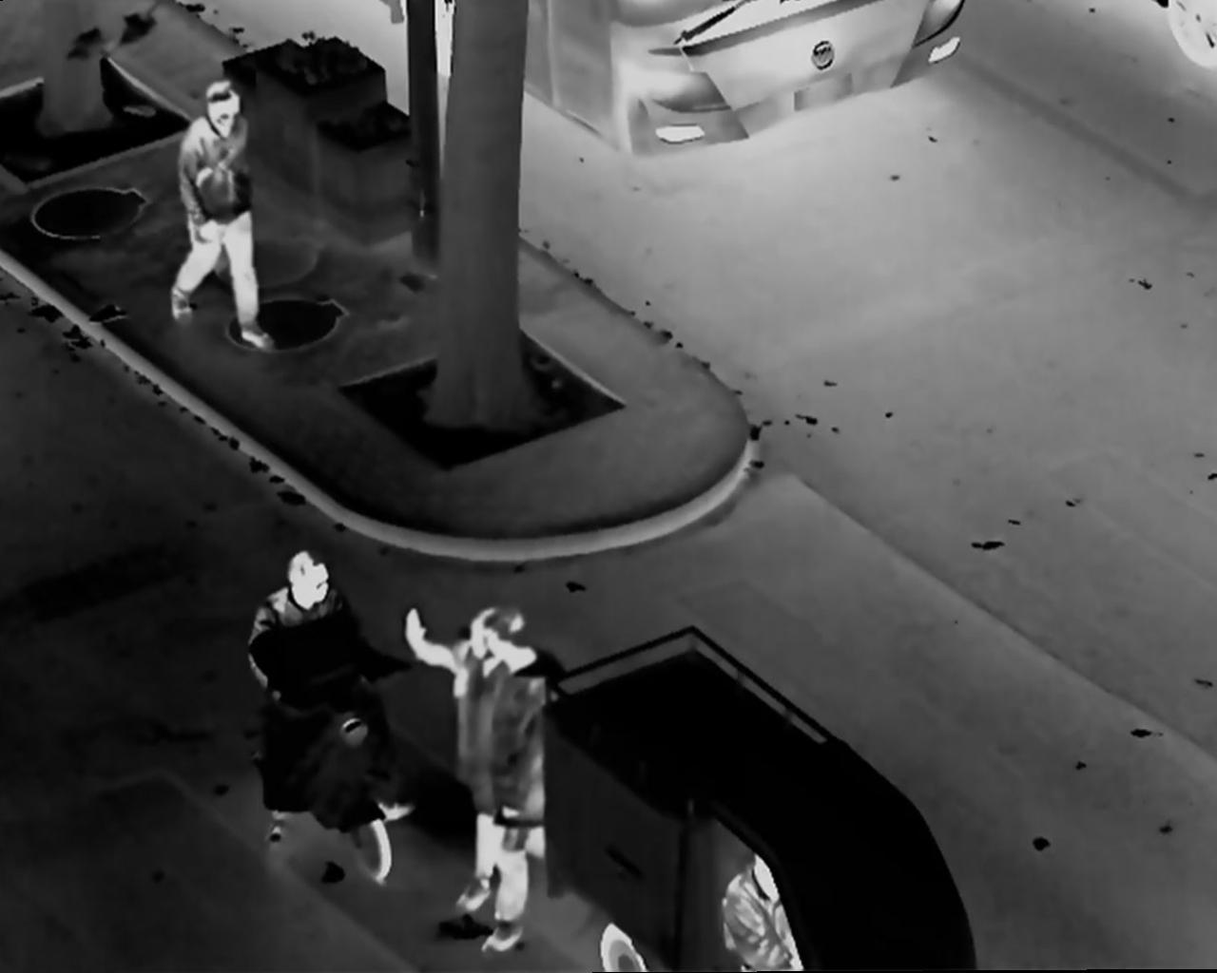person: (251, 544, 412, 844), (398, 601, 521, 917), (170, 79, 280, 355), (475, 605, 551, 952), (724, 850, 801, 973)
